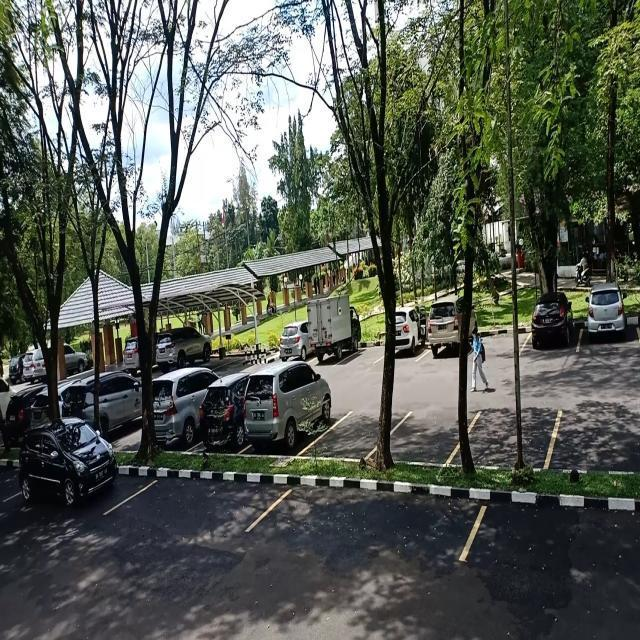Car: (15, 428, 129, 521), (242, 385, 329, 458), (198, 371, 244, 458), (579, 286, 640, 348), (525, 296, 580, 350), (427, 305, 478, 357)
Vacant: (266, 488, 474, 570), (134, 469, 276, 544), (465, 409, 554, 471), (390, 405, 460, 467), (318, 398, 378, 466), (478, 320, 526, 359)
